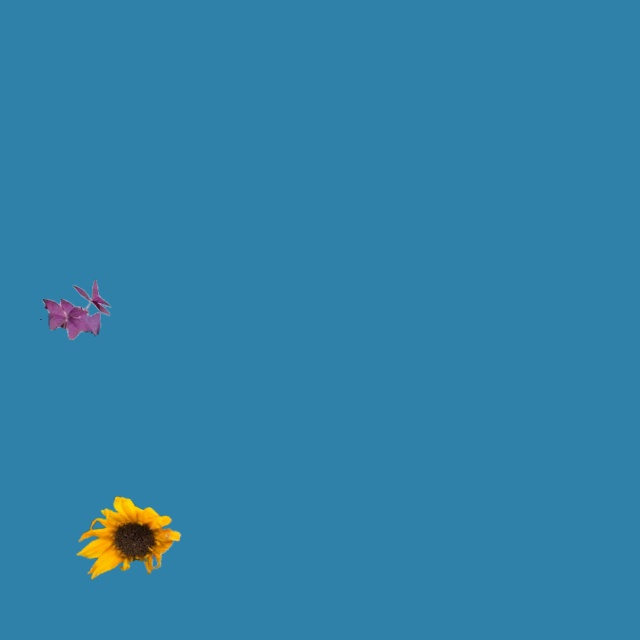butterfly flower: (43, 280, 110, 339)
sunflower: (76, 496, 180, 579)
